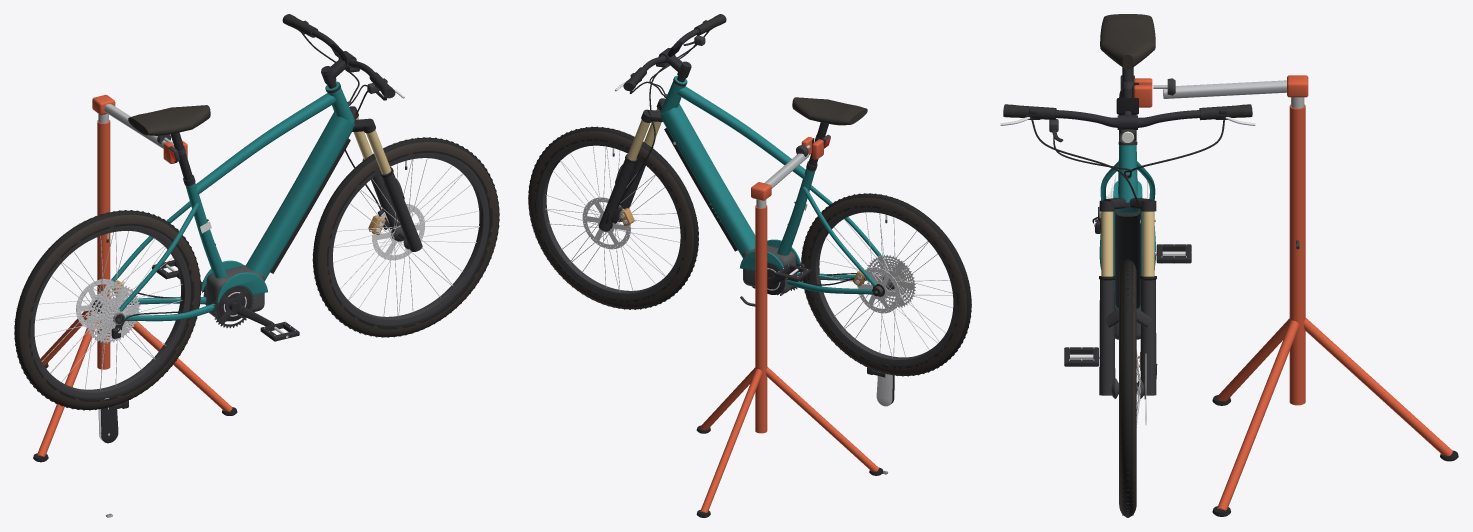
File: rad.glb
3 renders of one model, left to right at view 1: azimuth 30°, elevation 25°; view 2: azimuth 150°, elevation 25°; view 3: azimuth 270°, elevation 25°, orthographic. The views are drawn at different scales.
Parts seen in each view (by area): view 1: rahmen, reifen_h, reifen_v, staender, felge_v, felge_h, speichen_v, kassette, gabel_unten, speichen_h, sattel, motor (+8 smaller); view 2: rahmen, staender, reifen_v, reifen_h, felge_v, felge_h, speichen_h, speichen_v, gabel_unten, sattel, kassette, gabel (+7 smaller); view 3: staender, reifen_v, gabel_unten, sattel, gabel, rahmen, akku, griffe, lenker, leitungen, pedal_l, pedal_r.
Boxes of the visible parts, x1=… form: rahmen: x1=101, y1=81, x2=355, y2=330; reifen_h: x1=14, y1=210, x2=201, y2=410; reifen_v: x1=312, y1=137, x2=499, y2=337; staender: x1=33, y1=94, x2=237, y2=462; felge_v: x1=328, y1=153, x2=489, y2=326; felge_h: x1=30, y1=225, x2=190, y2=398; speichen_v: x1=333, y1=158, x2=479, y2=316; kassette: x1=85, y1=284, x2=140, y2=343; gabel_unten: x1=362, y1=158, x2=422, y2=251; speichen_h: x1=34, y1=231, x2=182, y2=389; sattel: x1=128, y1=105, x2=210, y2=135; motor: x1=203, y1=265, x2=264, y2=321; rahmen: x1=660, y1=75, x2=888, y2=296; staender: x1=696, y1=137, x2=883, y2=517; reifen_v: x1=528, y1=126, x2=698, y2=309; reifen_h: x1=801, y1=193, x2=971, y2=376; felge_v: x1=537, y1=141, x2=684, y2=299; felge_h: x1=810, y1=207, x2=957, y2=365; speichen_h: x1=818, y1=212, x2=952, y2=357; speichen_v: x1=545, y1=146, x2=680, y2=291; gabel_unten: x1=598, y1=147, x2=653, y2=231; sattel: x1=792, y1=97, x2=867, y2=125; kassette: x1=866, y1=254, x2=915, y2=308; gabel: x1=627, y1=62, x2=690, y2=160; staender: x1=1132, y1=75, x2=1458, y2=516; reifen_v: x1=1119, y1=259, x2=1136, y2=517; gabel_unten: x1=1099, y1=276, x2=1157, y2=395; sattel: x1=1100, y1=14, x2=1155, y2=69; gabel: x1=1099, y1=115, x2=1156, y2=276; rahmen: x1=1099, y1=141, x2=1155, y2=309; akku: x1=1115, y1=209, x2=1140, y2=308; griffe: x1=1003, y1=104, x2=1252, y2=120; lenker: x1=1055, y1=110, x2=1200, y2=127; leitungen: x1=1031, y1=120, x2=1224, y2=232; pedal_l: x1=1155, y1=244, x2=1191, y2=263; pedal_r: x1=1064, y1=347, x2=1099, y2=366.
Size of the model in its own units: 1867 by 1527 by 1270.
